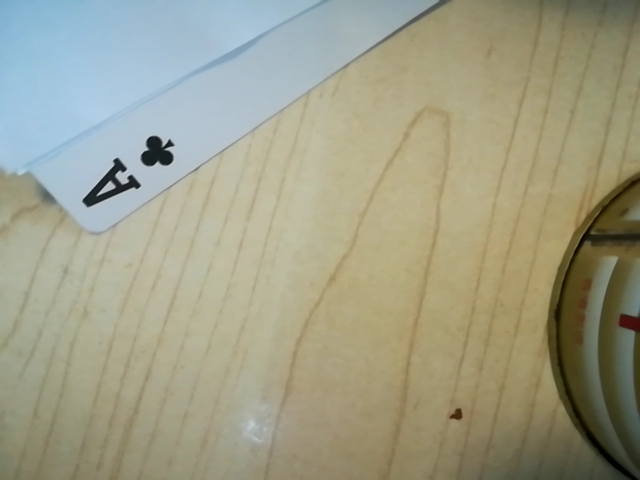mh a: (68, 127, 192, 217)
